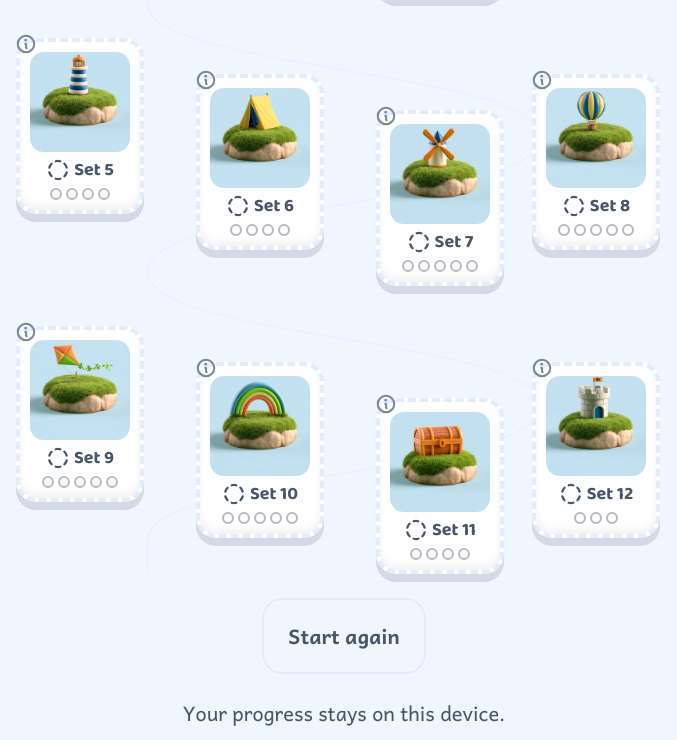
Test: GuestHome › asks before it starts again, so one tap cannot wipe the visit
(page scrolled)
Click the button with test id "start-again-ask".
click(344, 636)  # box [262,598,426,674]
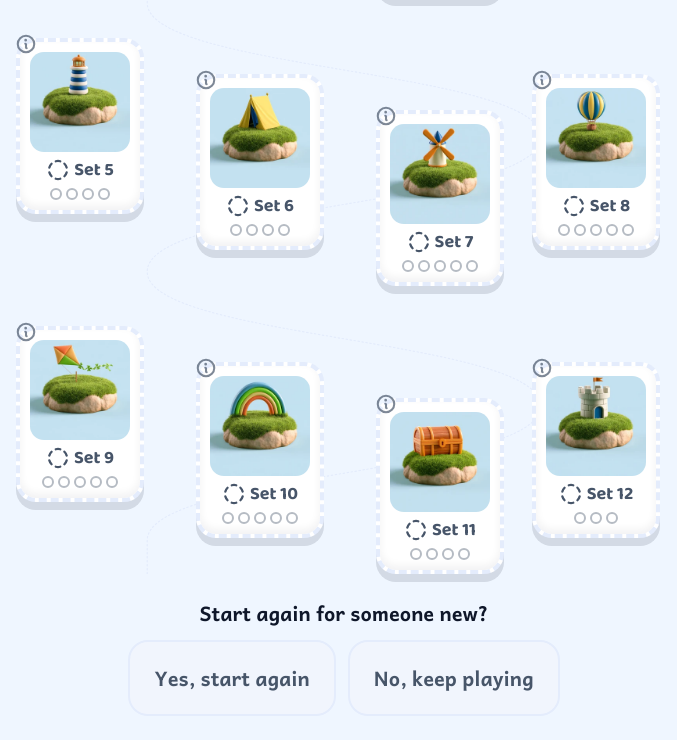
Now the button with test id "start-again-confirm" is shown, box [128,640,336,716]
